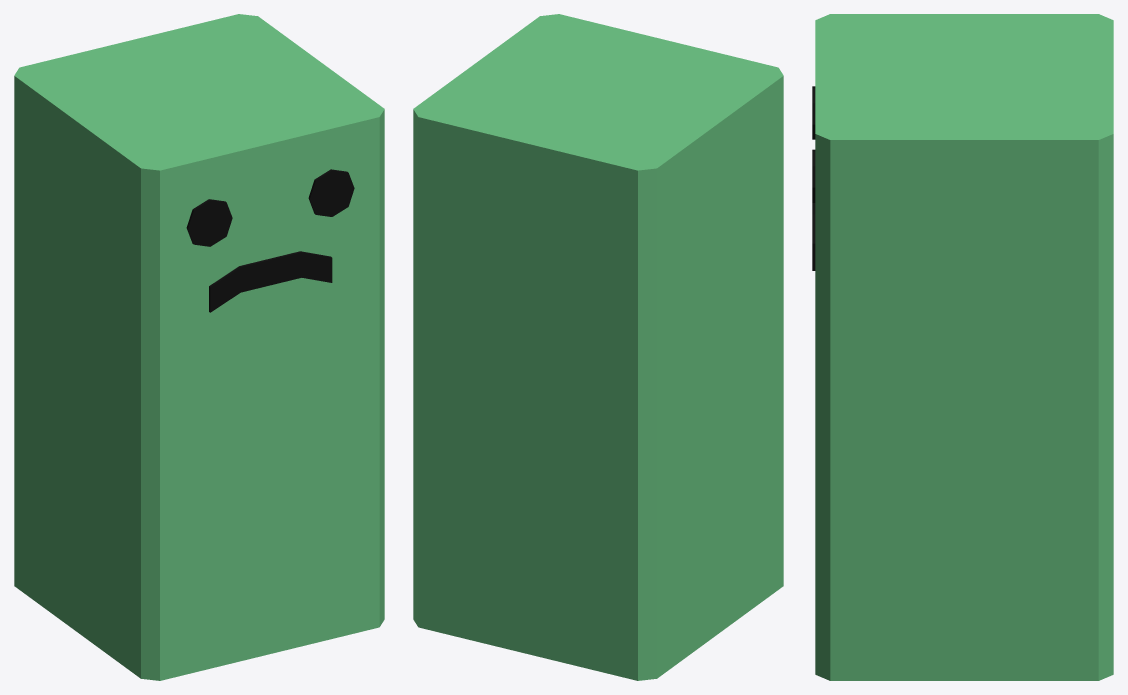
File: Enemy.fbx
The picture shows the model from 3 angles, left to right: view 1: azimuth 30°, elevation 25°; view 2: azimuth 150°, elevation 25°; view 3: azimuth 270°, elevation 25°; orthographic projection. The views are drawn at different scales.
Parts seen in each view (by area): view 1: Enemy; view 2: Enemy; view 3: Enemy.
Boxes of the visible parts, box(x1,y1,x2,y2) form: Enemy: box(14, 14, 384, 680); Enemy: box(413, 14, 783, 680); Enemy: box(812, 14, 1113, 680).
Size of the model in its own units: 200 by 400 by 202.
